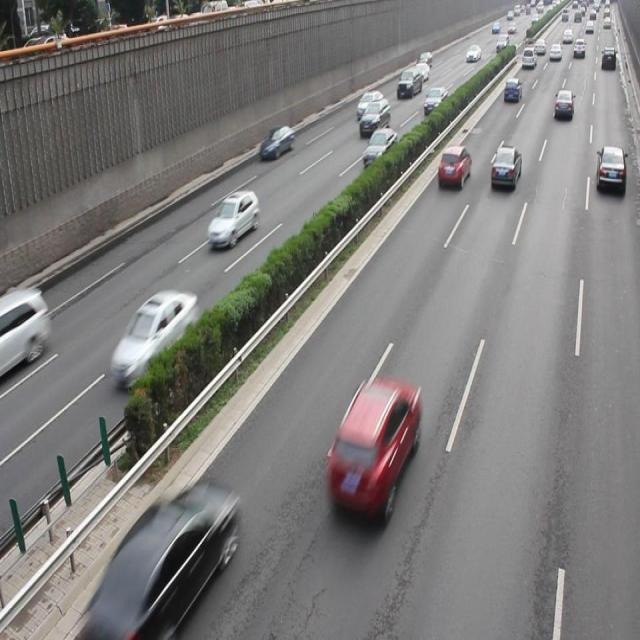car: (106, 484, 232, 640), (323, 377, 418, 523), (110, 288, 197, 388), (1, 286, 48, 378), (206, 190, 258, 248), (437, 144, 470, 189), (488, 144, 520, 190), (362, 127, 397, 168), (595, 145, 624, 193), (260, 124, 293, 160), (358, 98, 389, 136), (422, 85, 447, 119), (356, 88, 382, 118), (553, 88, 572, 119)
